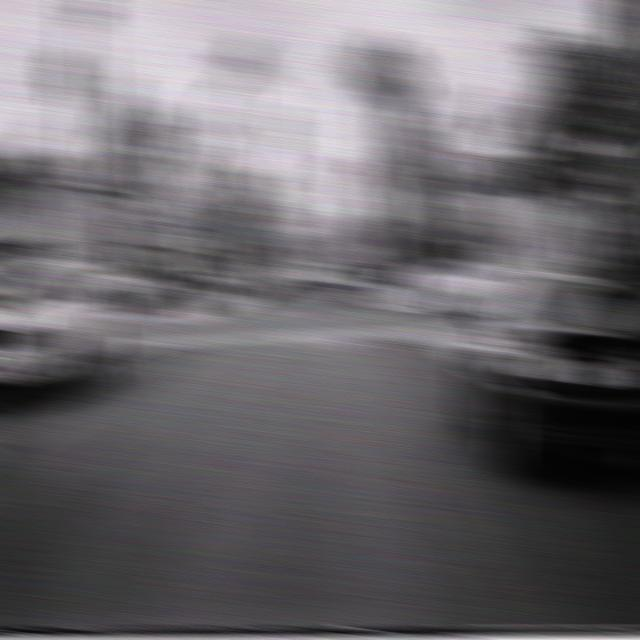stop: (428, 183, 467, 225)
